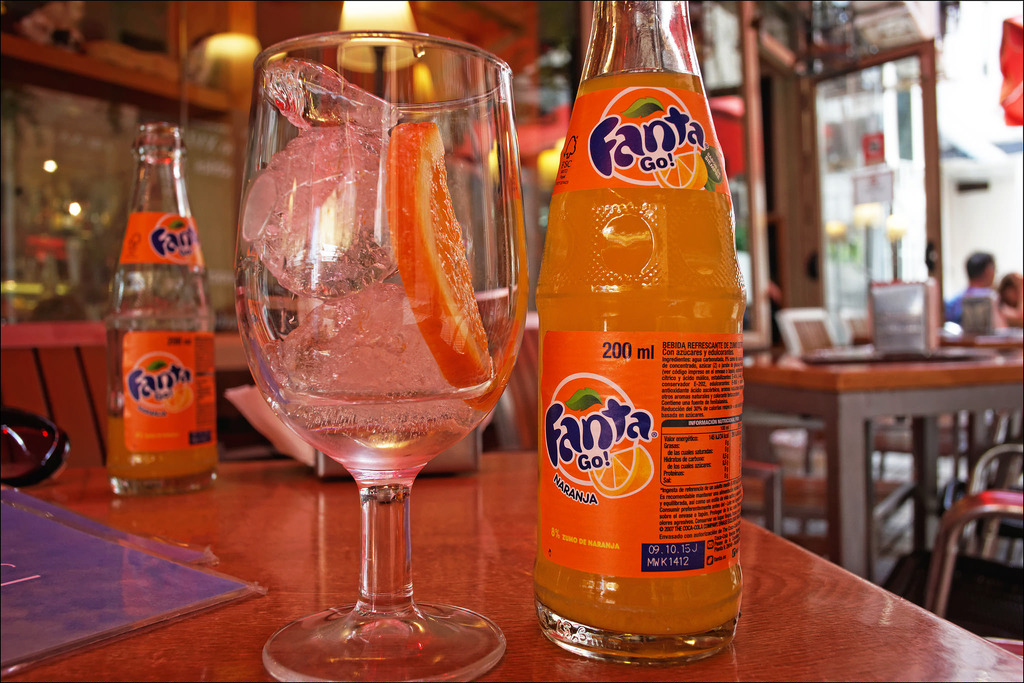fanta: (542, 4, 741, 650), (114, 142, 217, 473)
